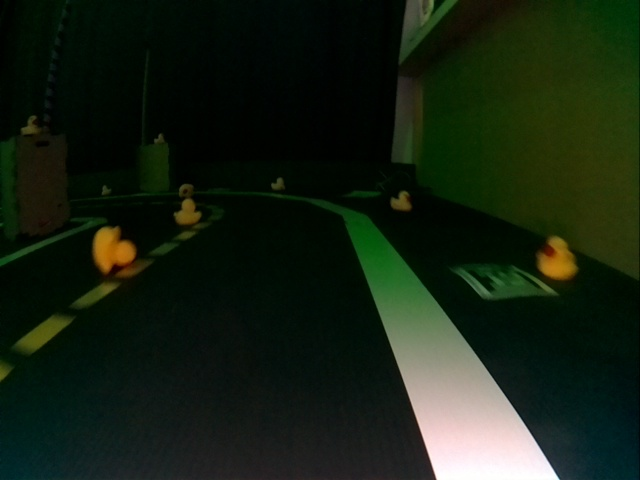Duckie: (93, 226, 136, 275), (537, 237, 577, 279), (174, 201, 200, 222), (21, 116, 41, 133), (391, 193, 410, 210), (271, 178, 286, 189), (178, 184, 194, 194), (154, 134, 164, 144), (102, 185, 111, 195)
QR code: (456, 267, 555, 297)
